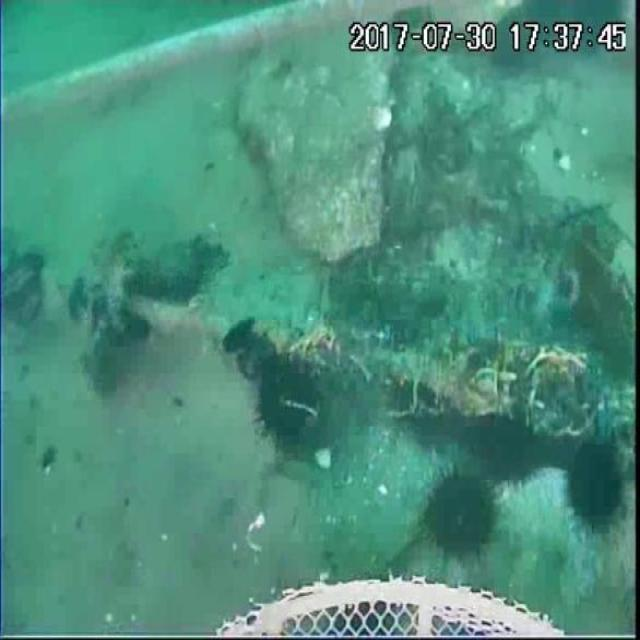echinus: (424, 467, 498, 561), (568, 431, 628, 532), (259, 354, 323, 438), (476, 410, 541, 490)
